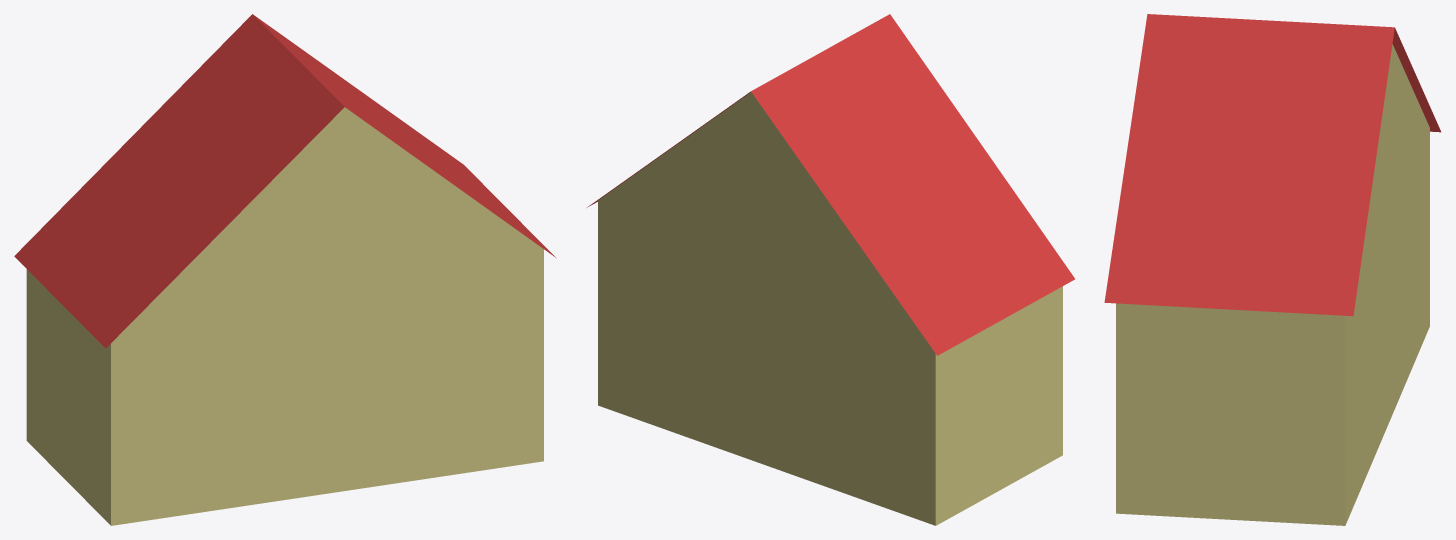
3 renders of one model, left to right at view 1: azimuth 30°, elevation 25°; view 2: azimuth 150°, elevation 25°; view 3: azimuth 270°, elevation 25°, orthographic. The views are drawn at different scales.
Bounding box in the file's own units: 13.16 × 8.48 × 11.27.
